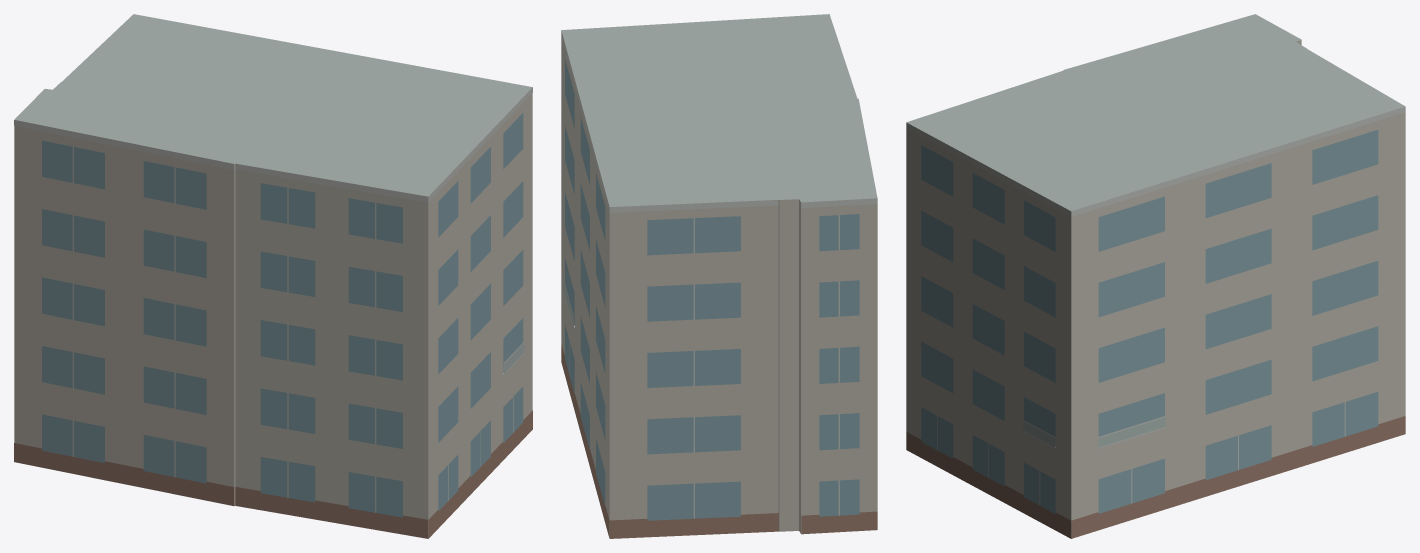
The model's file is survey-upis-32521547.glb.
3 renders of one model, left to right at view 1: azimuth 30°, elevation 25°; view 2: azimuth 150°, elevation 25°; view 3: azimuth 270°, elevation 25°, orthographic. The views are drawn at different scales.
Visible parts, largest first — view 1: survey-upis-32521547.tmp; view 2: survey-upis-32521547.tmp; view 3: survey-upis-32521547.tmp.
Boxes of the visible parts, x1,y1,x2,y2 form: survey-upis-32521547.tmp: (14,14,532,538); survey-upis-32521547.tmp: (561,14,877,538); survey-upis-32521547.tmp: (906,14,1405,538).
Size of the model in its own units: 18.22 by 14.1 by 19.49.
